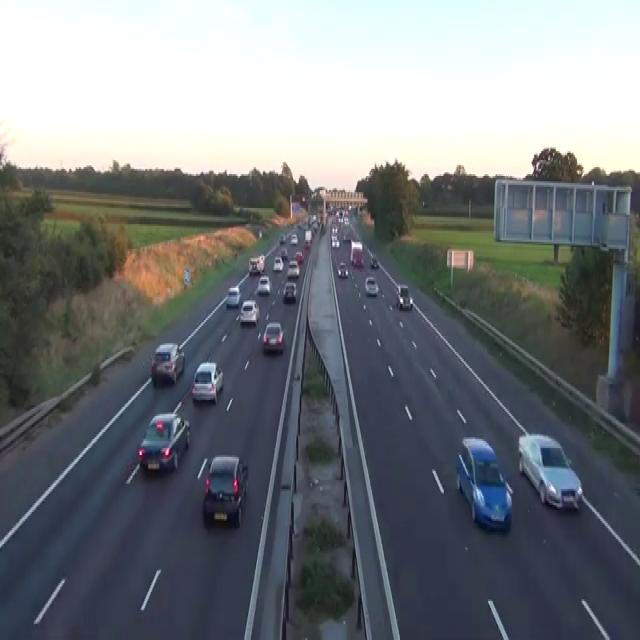Car: (455, 436, 513, 532), (517, 432, 582, 510), (202, 455, 248, 526), (137, 412, 190, 473), (150, 341, 184, 386), (191, 361, 223, 403), (262, 322, 284, 352), (237, 299, 259, 325), (396, 283, 413, 309), (226, 284, 240, 308), (282, 281, 297, 300), (257, 276, 271, 295), (364, 276, 378, 295), (287, 260, 299, 278), (337, 260, 348, 278), (272, 256, 283, 270), (258, 254, 265, 272), (370, 254, 378, 268), (294, 251, 303, 263), (280, 247, 288, 260), (331, 237, 339, 247), (290, 233, 298, 243), (320, 222, 326, 235), (342, 233, 350, 242), (331, 226, 338, 236), (304, 238, 311, 247), (279, 233, 285, 243), (312, 221, 318, 231), (344, 215, 349, 224), (258, 228, 262, 238), (297, 222, 303, 228)
Truck: (248, 254, 265, 276), (350, 240, 363, 267)
